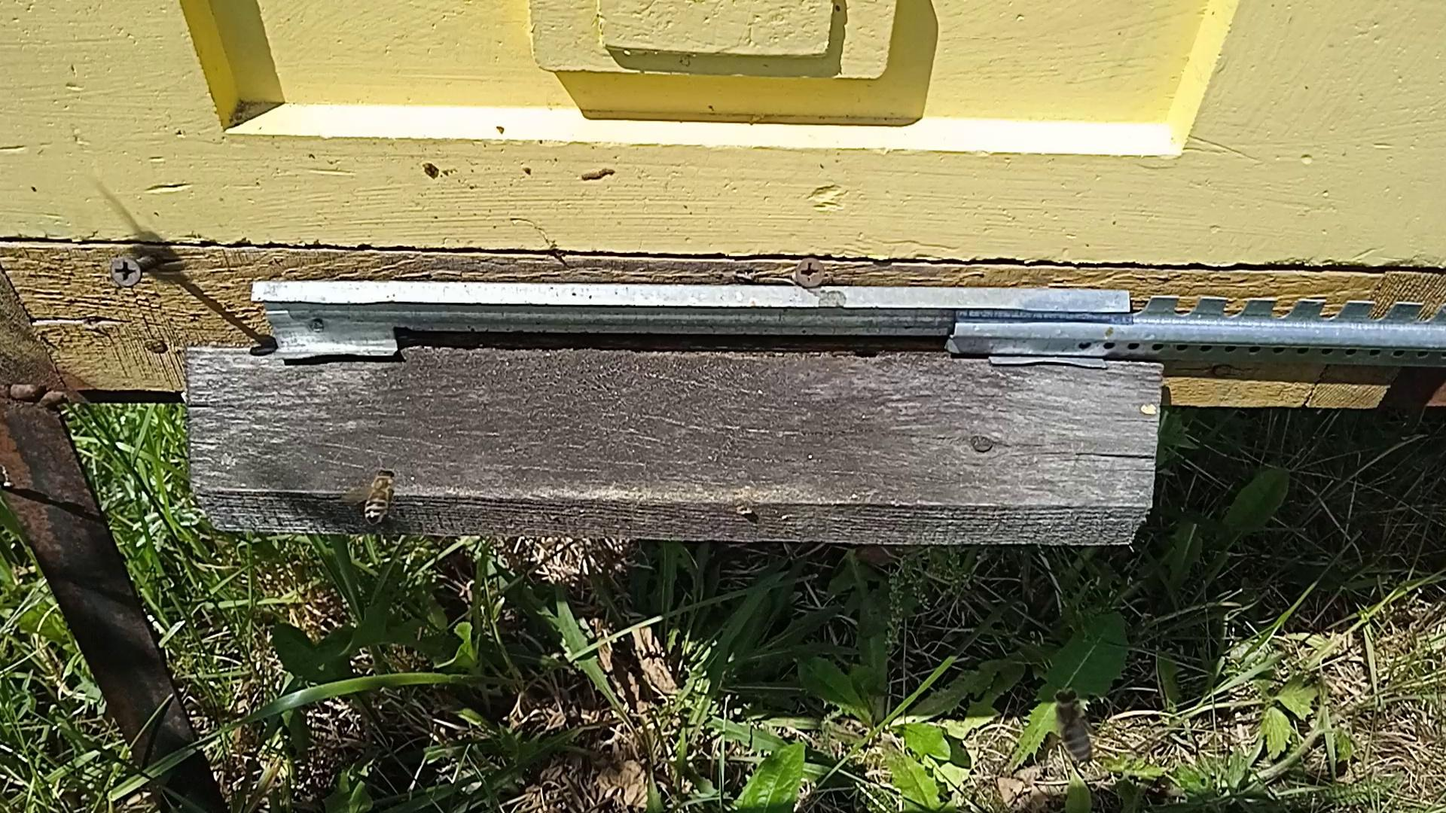worker-bee: (1054, 689, 1093, 764), (364, 467, 398, 525)
